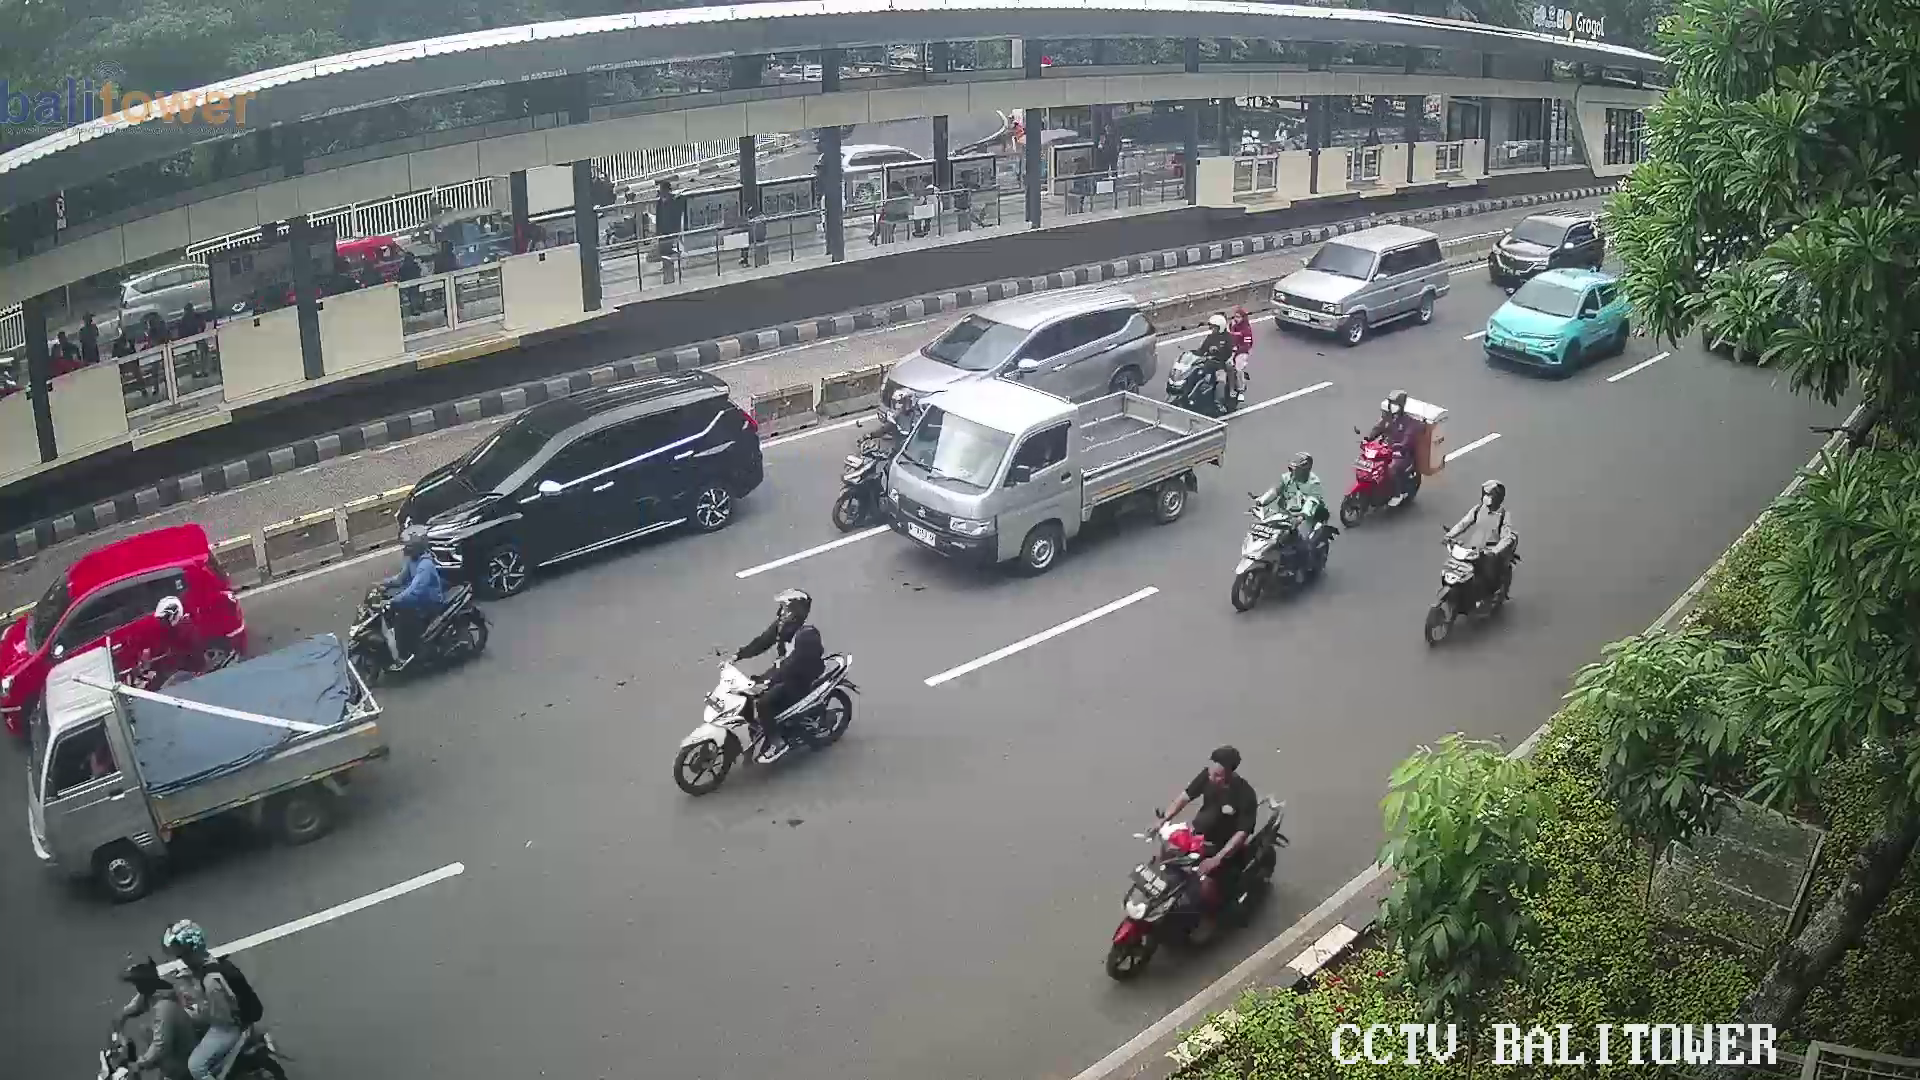half-face helmet: (108, 943, 159, 1006), (155, 912, 210, 971), (765, 582, 817, 637), (394, 516, 439, 565), (1474, 471, 1515, 524), (1288, 447, 1317, 492), (151, 592, 186, 624), (1382, 392, 1410, 424), (1204, 312, 1229, 341), (892, 390, 914, 412)
no helmet: (1204, 739, 1247, 800), (1227, 304, 1263, 347)
